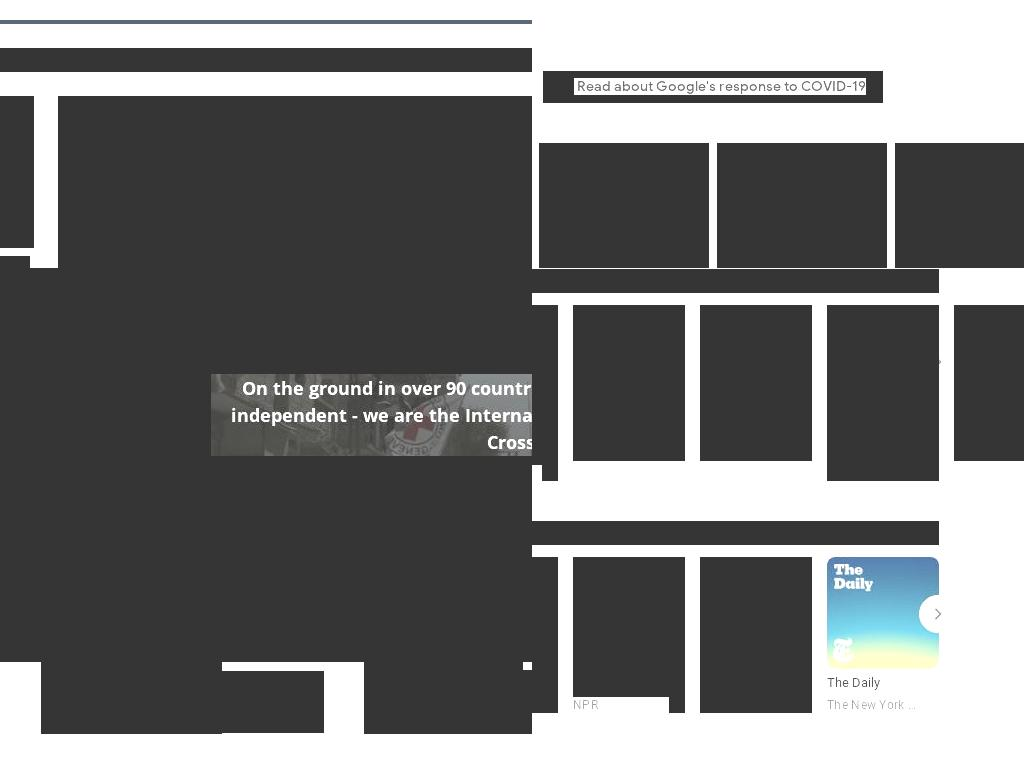button: (58, 96, 532, 268), (539, 143, 709, 268), (717, 143, 887, 268), (827, 305, 939, 481), (573, 305, 685, 461), (700, 305, 812, 461), (573, 557, 685, 713), (700, 557, 812, 713), (827, 557, 939, 713), (895, 143, 1024, 268), (954, 305, 1024, 461), (954, 557, 1024, 713), (543, 71, 883, 103), (532, 305, 558, 481), (532, 557, 558, 713)
heading: (544, 246, 704, 266), (722, 246, 882, 266), (900, 246, 1024, 266)
image: (0, 268, 532, 662), (58, 96, 532, 268), (573, 305, 685, 417), (700, 305, 812, 417), (827, 305, 939, 417), (573, 557, 685, 669), (700, 557, 812, 669), (827, 557, 939, 669), (954, 305, 1024, 417), (954, 557, 1024, 669), (592, 170, 656, 234), (770, 170, 834, 234), (948, 170, 1012, 234), (532, 305, 558, 417), (532, 557, 558, 669), (552, 78, 570, 97), (364, 653, 415, 659), (41, 653, 91, 659)
link: (41, 616, 222, 734), (364, 616, 523, 734), (171, 713, 251, 733)
text: (211, 374, 532, 456), (41, 671, 324, 733), (0, 48, 532, 72), (364, 670, 532, 734), (532, 269, 939, 293), (532, 521, 939, 545), (574, 78, 866, 95), (827, 417, 923, 461), (573, 417, 669, 441), (700, 417, 796, 441), (573, 669, 669, 693), (700, 669, 796, 693), (827, 669, 923, 693), (954, 417, 1024, 441), (954, 669, 1024, 693), (573, 445, 669, 461), (700, 445, 796, 461), (827, 465, 923, 481), (573, 697, 669, 713), (700, 697, 796, 713), (827, 697, 923, 713), (954, 445, 1024, 461), (954, 697, 1024, 713), (251, 713, 255, 733)
